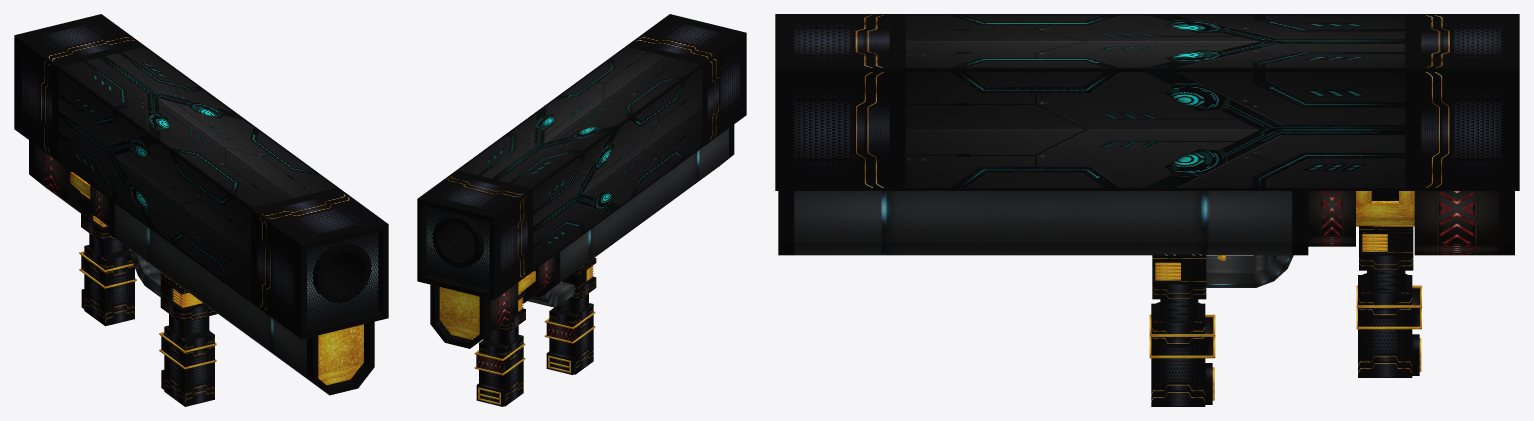
3 renders of one model, left to right at view 1: azimuth 30°, elevation 25°; view 2: azimuth 150°, elevation 25°; view 3: azimuth 270°, elevation 25°, orthographic. The views are drawn at different scales.
Visible parts, largest first — view 1: 26d3683e-5739-0306-bc55-c81b2d309d30_96, ae5adacb-a32d-45cc-c84c-b42c2ed95e97_99, 588c6db2-fc6b-851f-dea4-af0d720be867_164, 0fcea69b-6e65-a088-a8b8-8772f0dde32c_81, fc70c528-2731-17e8-2e80-41d08e192a5a_70, d84b7d7f-2c09-28b2-6bfe-400bb94230d9_191, c98ab006-3fe4-2c8c-7a7f-83b87c197963_80, 4f86e88c-de25-9685-a2ec-c88d48d6c32e_105, 5cb20980-188d-2a72-98d5-efd5aebca213_95, d90e2d42-0b38-b365-543a-4b26f44d2976_106, ad35ed93-b5ac-523c-5830-e613f15935d1_36, 660dca7e-4f04-c71c-c9a6-cbb67a6e8229_160 (+24 smaller); view 2: 26d3683e-5739-0306-bc55-c81b2d309d30_96, ae5adacb-a32d-45cc-c84c-b42c2ed95e97_99, 588c6db2-fc6b-851f-dea4-af0d720be867_164, 0fcea69b-6e65-a088-a8b8-8772f0dde32c_81, c98ab006-3fe4-2c8c-7a7f-83b87c197963_80, 2b7c7cfc-ce19-918d-f3f1-1b210f42c935_120, 4f86e88c-de25-9685-a2ec-c88d48d6c32e_105, d90e2d42-0b38-b365-543a-4b26f44d2976_106, d84b7d7f-2c09-28b2-6bfe-400bb94230d9_191, fc70c528-2731-17e8-2e80-41d08e192a5a_70, 89a67f35-9a7c-2903-0351-eabd06fbf6a3_33, 660dca7e-4f04-c71c-c9a6-cbb67a6e8229_160 (+27 smaller); view 3: 3af8bc44-4614-7dc2-fc4a-73861f84e43a_98, ae5adacb-a32d-45cc-c84c-b42c2ed95e97_99, 588c6db2-fc6b-851f-dea4-af0d720be867_164, b7cc62d5-a186-ccf4-9b8e-d668388f369d_82, e5f0004d-7748-9191-34b1-2bd7c3d66fc3_107, be7e6466-4a6a-2fe4-cf98-846ba8a5a8ed_121, c98ab006-3fe4-2c8c-7a7f-83b87c197963_80, fc70c528-2731-17e8-2e80-41d08e192a5a_70, d84b7d7f-2c09-28b2-6bfe-400bb94230d9_191, 660dca7e-4f04-c71c-c9a6-cbb67a6e8229_160, d90e2d42-0b38-b365-543a-4b26f44d2976_106, 5cecbabb-9a6b-6333-bc18-bbd75ff11b88_103 (+23 smaller).
Part boxes in pixels (x1,y1,x2,y2): 26d3683e-5739-0306-bc55-c81b2d309d30_96: [58, 70, 251, 299]; ae5adacb-a32d-45cc-c84c-b42c2ed95e97_99: [61, 47, 335, 207]; 588c6db2-fc6b-851f-dea4-af0d720be867_164: [114, 203, 306, 377]; 0fcea69b-6e65-a088-a8b8-8772f0dde32c_81: [257, 215, 295, 332]; fc70c528-2731-17e8-2e80-41d08e192a5a_70: [164, 326, 214, 406]; d84b7d7f-2c09-28b2-6bfe-400bb94230d9_191: [84, 245, 134, 325]; c98ab006-3fe4-2c8c-7a7f-83b87c197963_80: [260, 192, 379, 240]; 4f86e88c-de25-9685-a2ec-c88d48d6c32e_105: [20, 42, 52, 154]; 5cb20980-188d-2a72-98d5-efd5aebca213_95: [307, 232, 378, 327]; d90e2d42-0b38-b365-543a-4b26f44d2976_106: [23, 19, 136, 62]; ad35ed93-b5ac-523c-5830-e613f15935d1_36: [318, 324, 363, 374]; 660dca7e-4f04-c71c-c9a6-cbb67a6e8229_160: [35, 144, 80, 202]; 26d3683e-5739-0306-bc55-c81b2d309d30_96: [533, 67, 702, 269]; ae5adacb-a32d-45cc-c84c-b42c2ed95e97_99: [458, 47, 699, 188]; 588c6db2-fc6b-851f-dea4-af0d720be867_164: [560, 128, 728, 281]; 0fcea69b-6e65-a088-a8b8-8772f0dde32c_81: [707, 39, 741, 141]; c98ab006-3fe4-2c8c-7a7f-83b87c197963_80: [633, 18, 738, 60]; 2b7c7cfc-ce19-918d-f3f1-1b210f42c935_120: [426, 206, 489, 289]; 4f86e88c-de25-9685-a2ec-c88d48d6c32e_105: [499, 195, 527, 293]; d90e2d42-0b38-b365-543a-4b26f44d2976_106: [425, 175, 525, 212]; d84b7d7f-2c09-28b2-6bfe-400bb94230d9_191: [479, 335, 523, 405]; fc70c528-2731-17e8-2e80-41d08e192a5a_70: [549, 303, 593, 374]; 89a67f35-9a7c-2903-0351-eabd06fbf6a3_33: [439, 287, 479, 330]; 660dca7e-4f04-c71c-c9a6-cbb67a6e8229_160: [490, 282, 518, 332]; 3af8bc44-4614-7dc2-fc4a-73861f84e43a_98: [905, 72, 1405, 187]; ae5adacb-a32d-45cc-c84c-b42c2ed95e97_99: [905, 15, 1405, 67]; 588c6db2-fc6b-851f-dea4-af0d720be867_164: [794, 191, 1292, 243]; b7cc62d5-a186-ccf4-9b8e-d668388f369d_82: [791, 72, 889, 187]; e5f0004d-7748-9191-34b1-2bd7c3d66fc3_107: [1421, 72, 1503, 187]; be7e6466-4a6a-2fe4-cf98-846ba8a5a8ed_121: [794, 243, 1292, 255]; c98ab006-3fe4-2c8c-7a7f-83b87c197963_80: [791, 15, 889, 67]; fc70c528-2731-17e8-2e80-41d08e192a5a_70: [1151, 303, 1205, 406]; d84b7d7f-2c09-28b2-6bfe-400bb94230d9_191: [1358, 275, 1412, 377]; 660dca7e-4f04-c71c-c9a6-cbb67a6e8229_160: [1414, 191, 1498, 243]; d90e2d42-0b38-b365-543a-4b26f44d2976_106: [1421, 15, 1503, 67]; 5cecbabb-9a6b-6333-bc18-bbd75ff11b88_103: [905, 67, 1405, 71].
Bounding box in the file's own units: 51.25 × 154 × 293.
